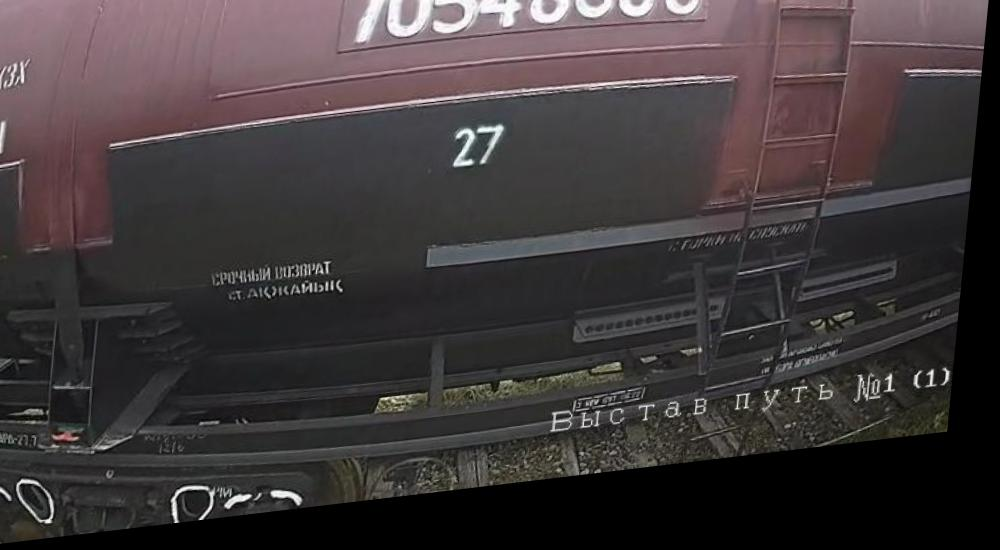Wagon-number: (339, 0, 714, 71)
